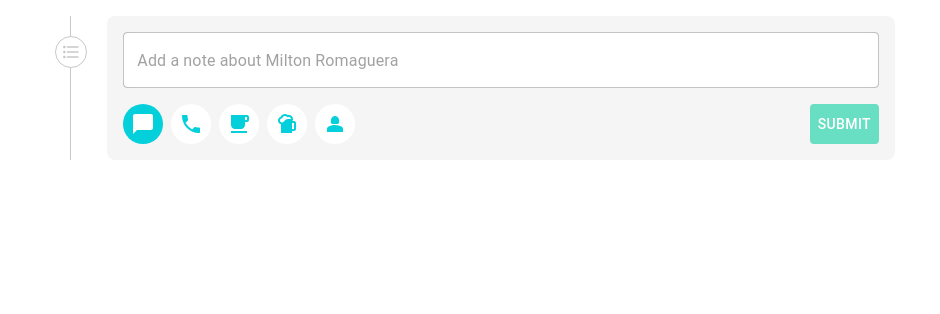
Test: delete a message
Type "Hello Man" into the text box with placeholder "Add a note about Milton Romaguera" at [501, 60], box [137,48,865,72]
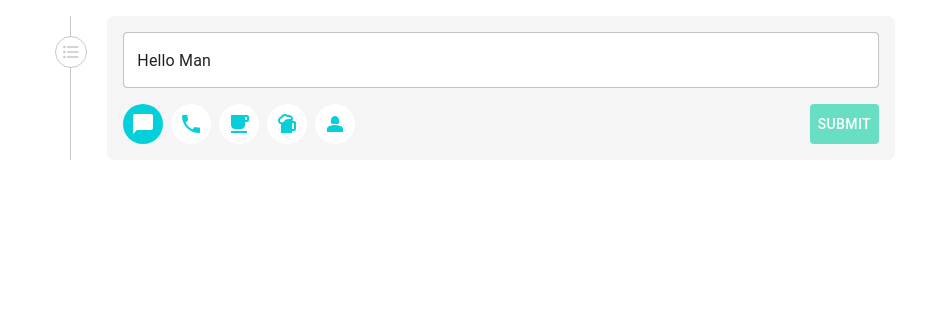
Click the button with test id "Coffee" at [239, 124], box [219,104,259,144]
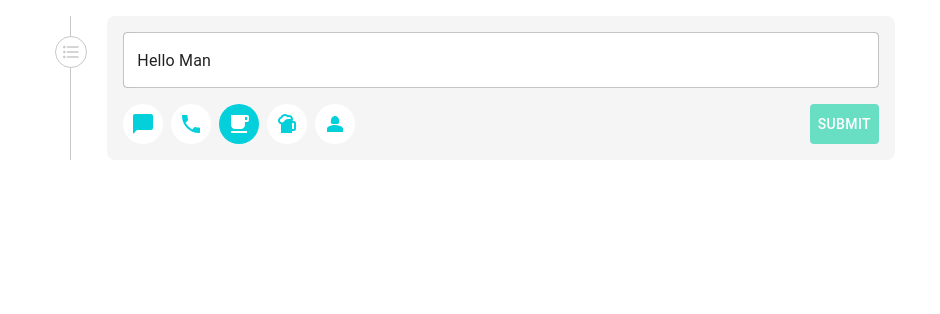
Click the button "Submit" at [844, 124], box [810,104,879,144]
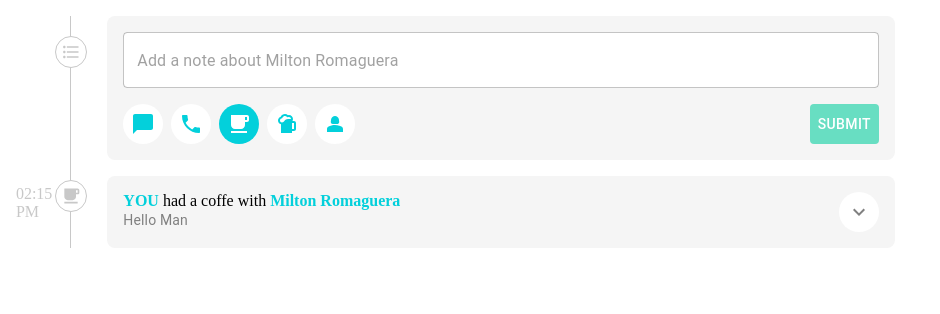
Check: the text "had a coffe with" is shown, box [163,192,266,209]
Check: the text "Hello Man" is shown, box [123,212,188,228]
Click the button with test id "option-menu" at [859, 212], box [839,192,879,232]
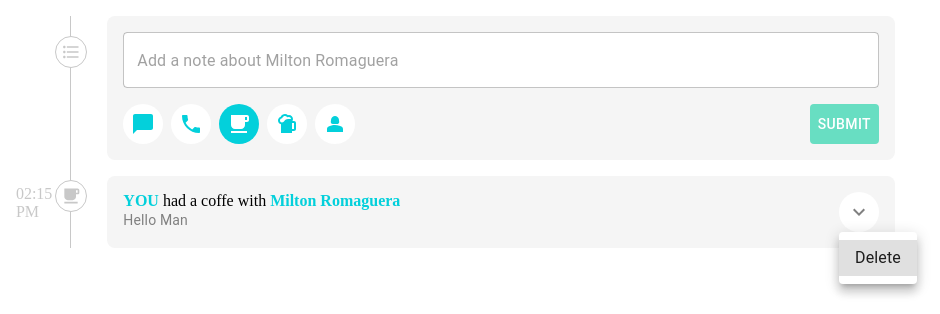
Click the menu item with test id "delete-option-menu" at [878, 258], box [839,240,917,276]
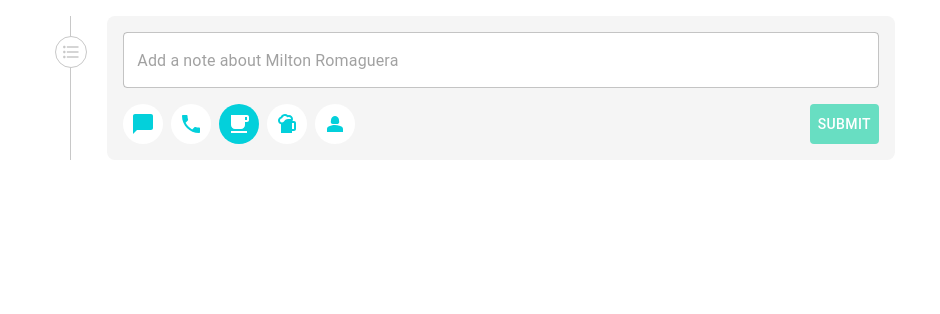
Check: the text "had a coffe with" is gone
Check: the text "Hello Man" is gone
